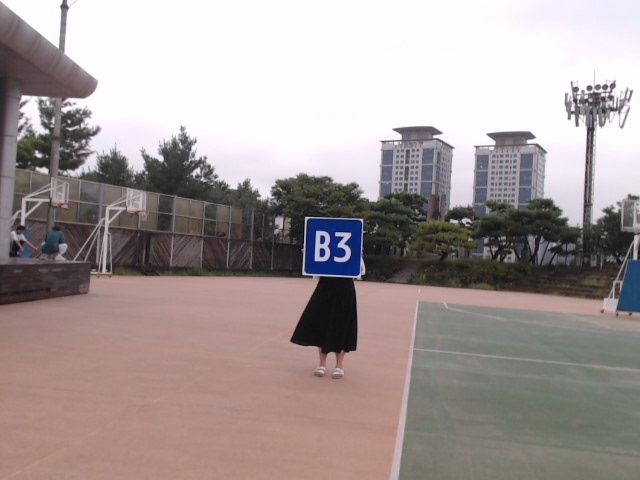delivery_b3: (305, 216, 363, 277)
